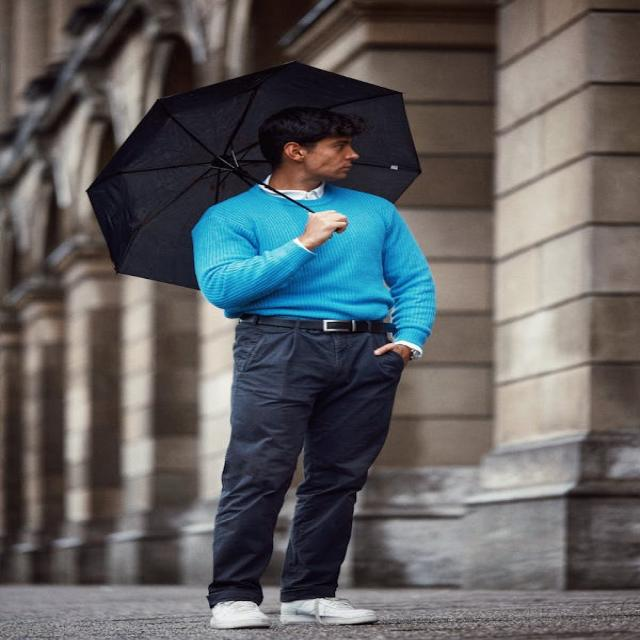Real human 2: (169, 92, 456, 640)
